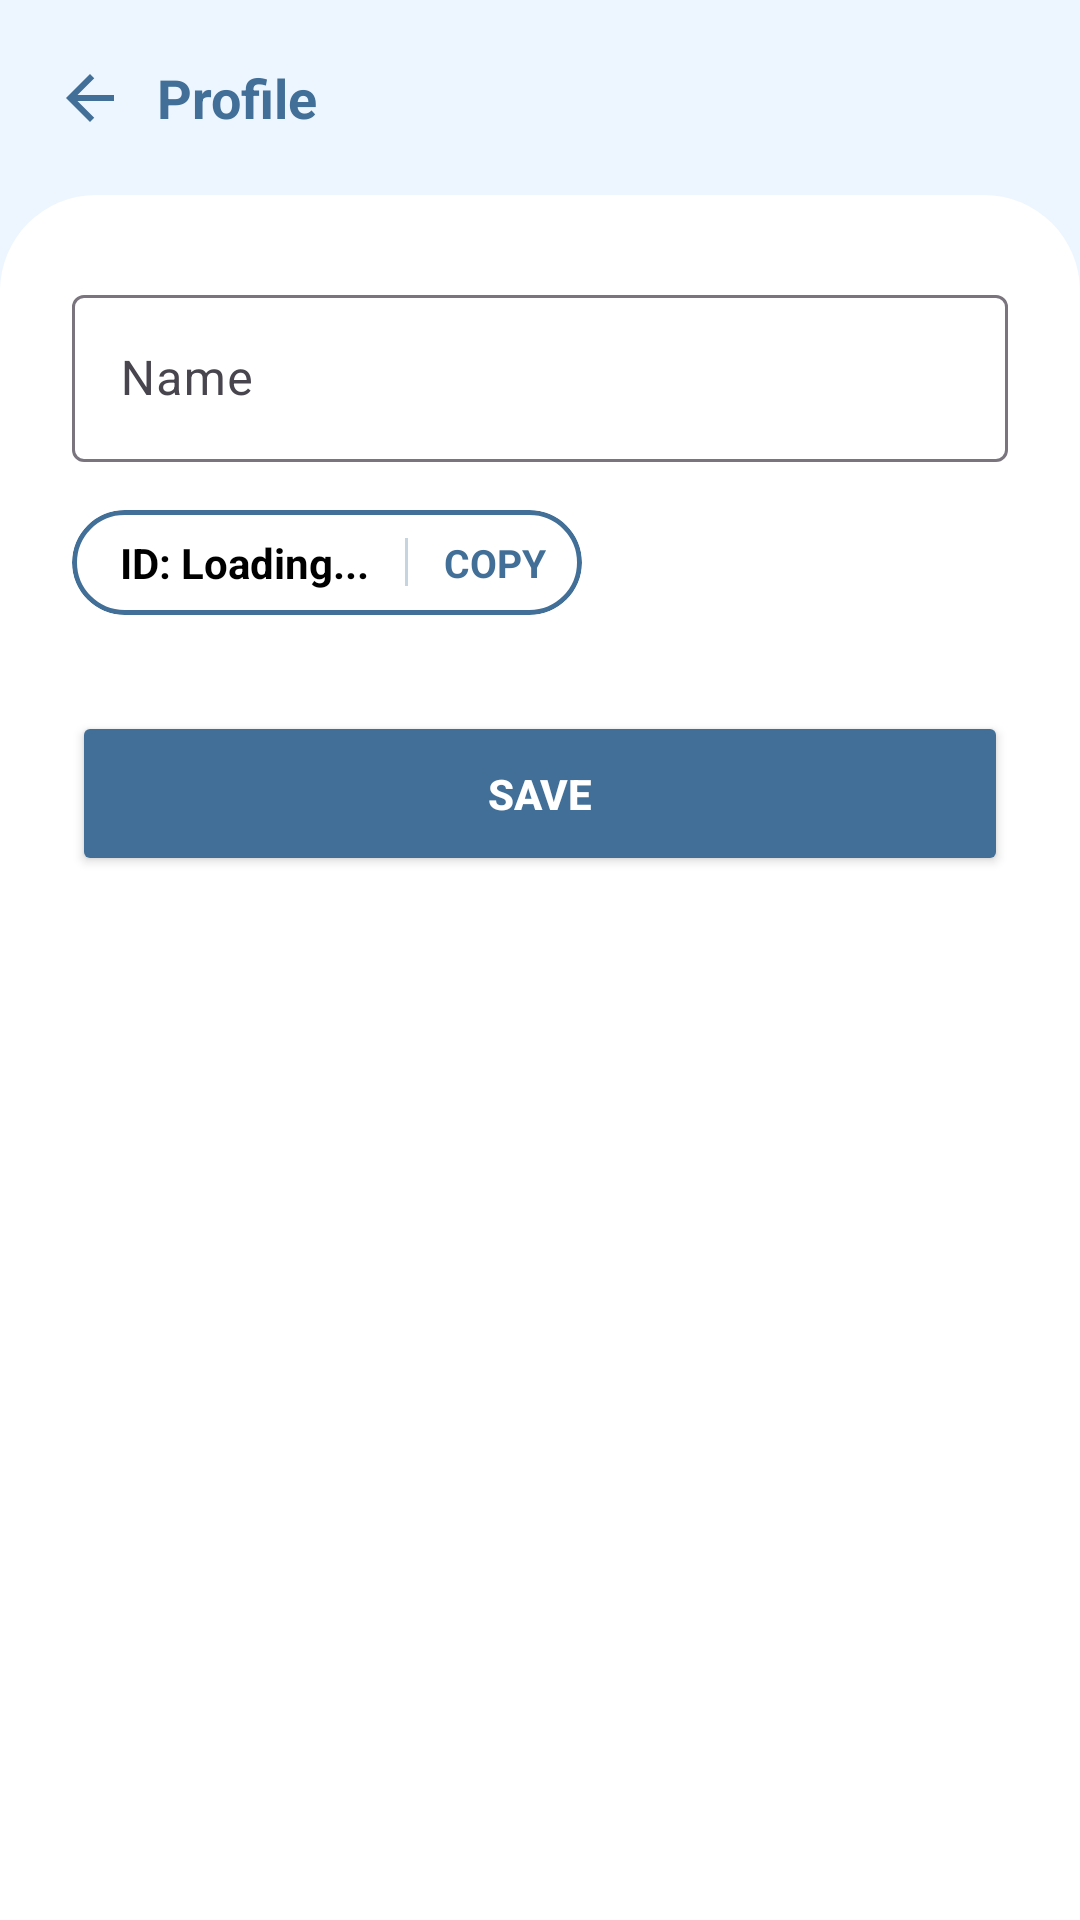

Named icons in this screenshot (1080px×1920px) and their bounding boxes, (x1, y1, x2, y2):
back: (66, 74, 114, 122)
